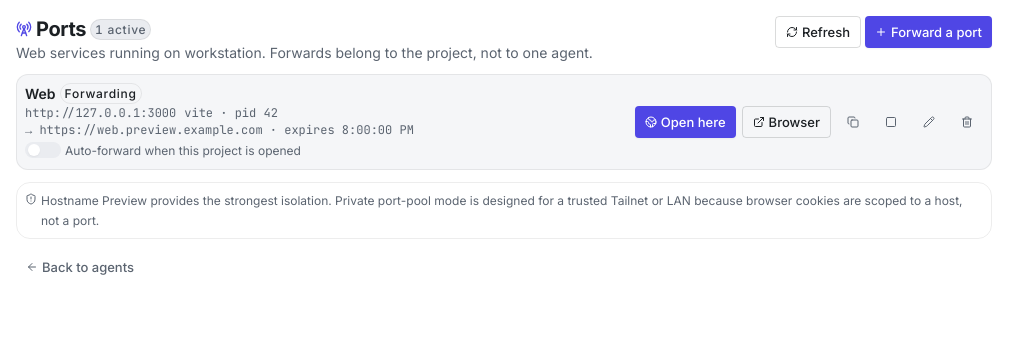
Test: ProjectPortsPage › offers a direct link when the browser blocks a Preview popup
Click the button "Browser".
click(786, 122)  # box [742, 106, 831, 138]
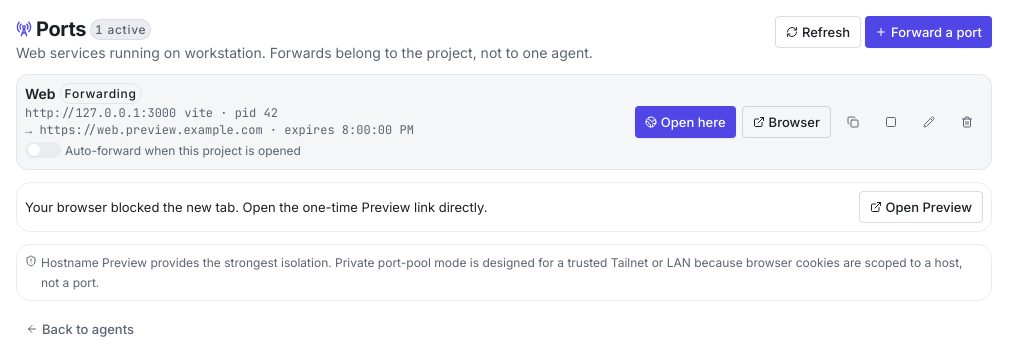
Check: the text "browser blocked the new tab" is shown, box [25, 199, 488, 215]
